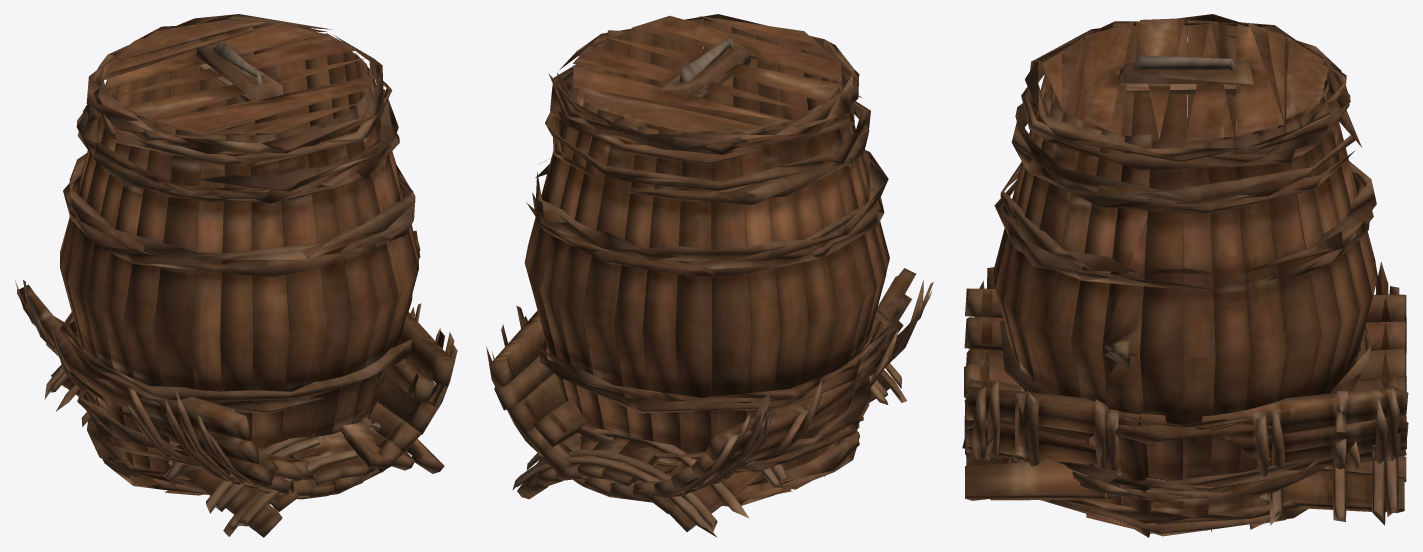
File: props_barrels_kit.glb
3 renders of one model, left to right at view 1: azimuth 30°, elevation 25°; view 2: azimuth 150°, elevation 25°; view 3: azimuth 270°, elevation 25°, orthographic. The views are drawn at different scales.
Parts seen in each view (by area): view 1: barrel_01, barrel_00, barrel_02, barrel_04, barrel_03; view 2: barrel_00, barrel_01, barrel_02, barrel_04, barrel_03; view 3: barrel_00, barrel_01, barrel_02, barrel_04, barrel_03.
Boxes of the visible parts, x1,y1,x2,y2 form: barrel_01: [63, 14, 420, 494]; barrel_00: [59, 19, 420, 495]; barrel_02: [15, 280, 457, 495]; barrel_04: [44, 365, 444, 537]; barrel_03: [46, 343, 420, 499]; barrel_00: [524, 14, 891, 506]; barrel_01: [526, 14, 892, 505]; barrel_02: [486, 268, 933, 502]; barrel_04: [512, 363, 906, 537]; barrel_03: [525, 377, 866, 499]; barrel_00: [993, 18, 1377, 537]; barrel_01: [993, 14, 1372, 536]; barrel_02: [962, 261, 1408, 481]; barrel_04: [964, 389, 1406, 525]; barrel_03: [964, 363, 1406, 467].
Size of the model in its own units: 0.7616 by 0.9145 by 0.8821.
Materials: 3 (3 with a texture image).
